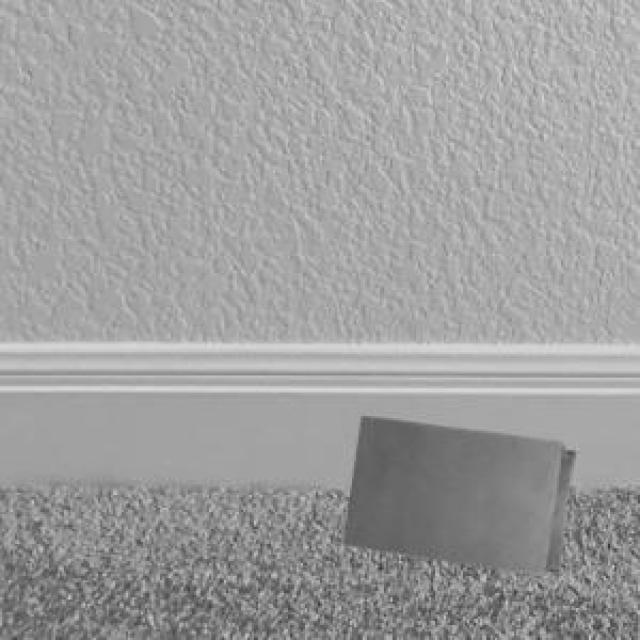paper: (340, 413, 571, 572)
